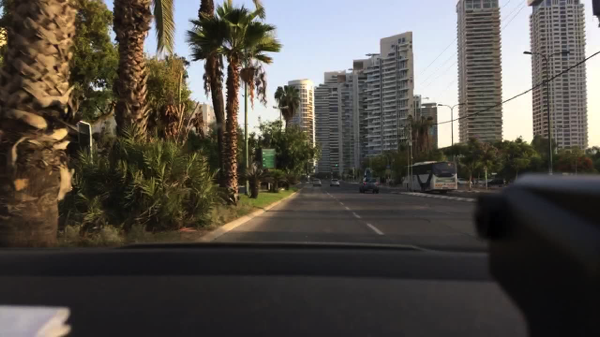bus: (403, 159, 457, 195)
car: (359, 177, 379, 194), (483, 178, 507, 188), (455, 178, 472, 185), (312, 178, 321, 187), (330, 179, 340, 187), (473, 179, 486, 185)
traffic light: (336, 162, 337, 167)
